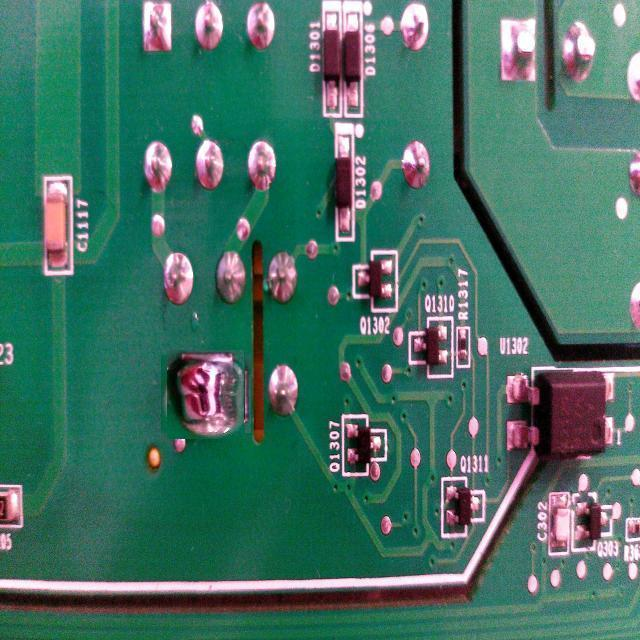Short_circuit: (164, 352, 248, 437)
